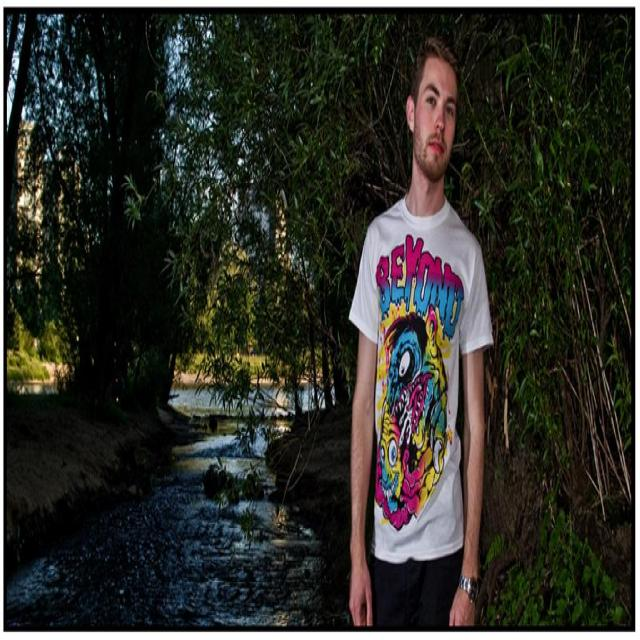nomask: (416, 58, 455, 190)
